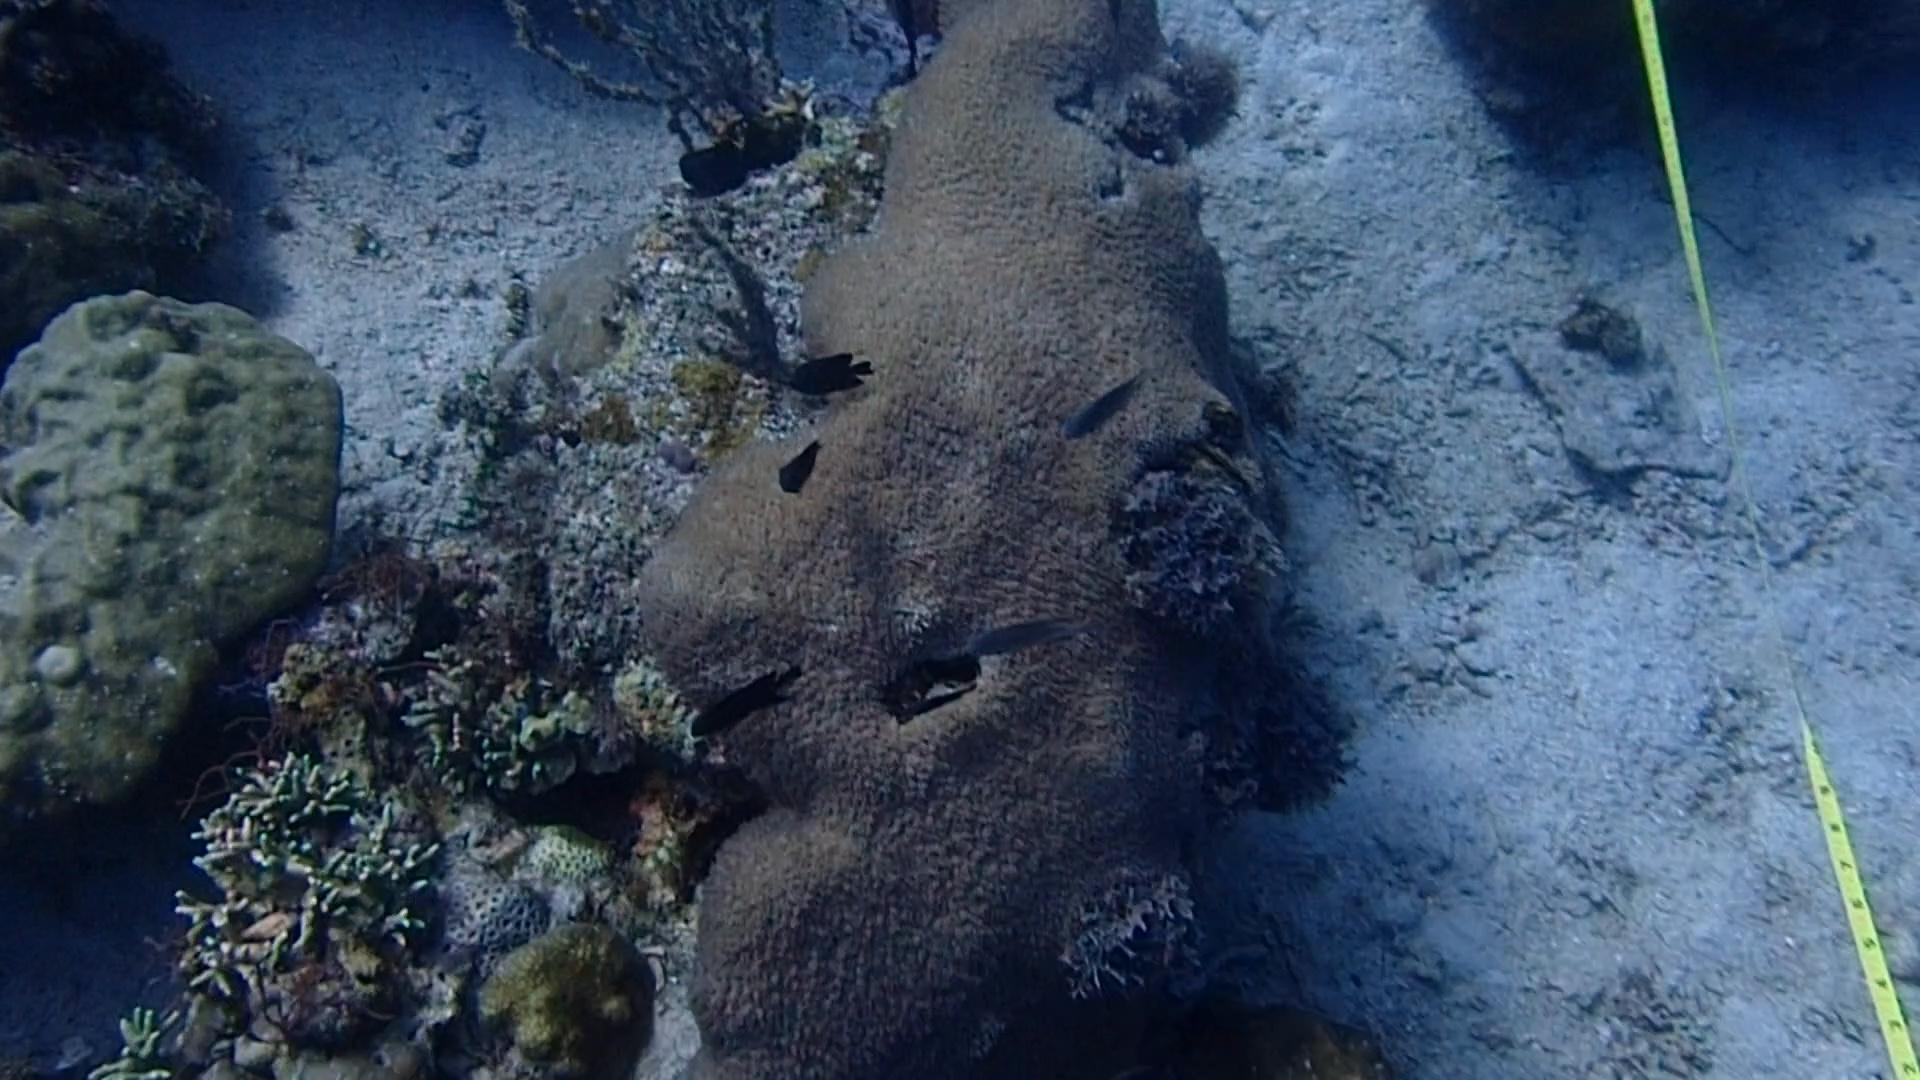Dark Fish: (688, 653, 793, 748), (767, 340, 899, 404), (765, 436, 832, 501), (895, 688, 973, 728)
Light Fish: (1039, 357, 1167, 451), (964, 595, 1087, 676)
